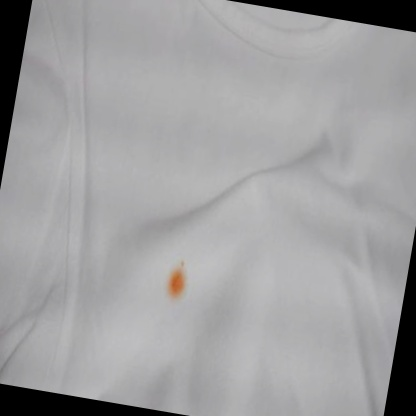kimchi: (163, 254, 196, 304)
